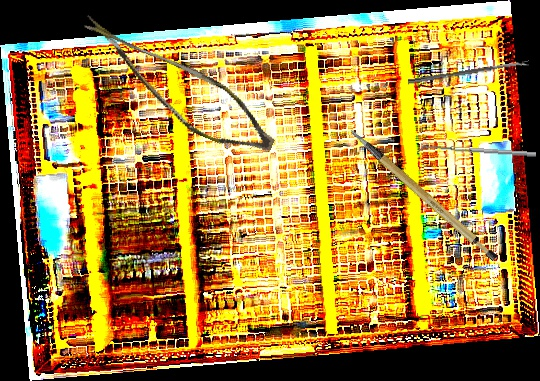Micro Scissor: (59, 14, 292, 163)
Scalpel Handle: (349, 108, 500, 278)
Spatula Surgical: (416, 143, 537, 162)
Surgical Spoon: (407, 60, 530, 85)
